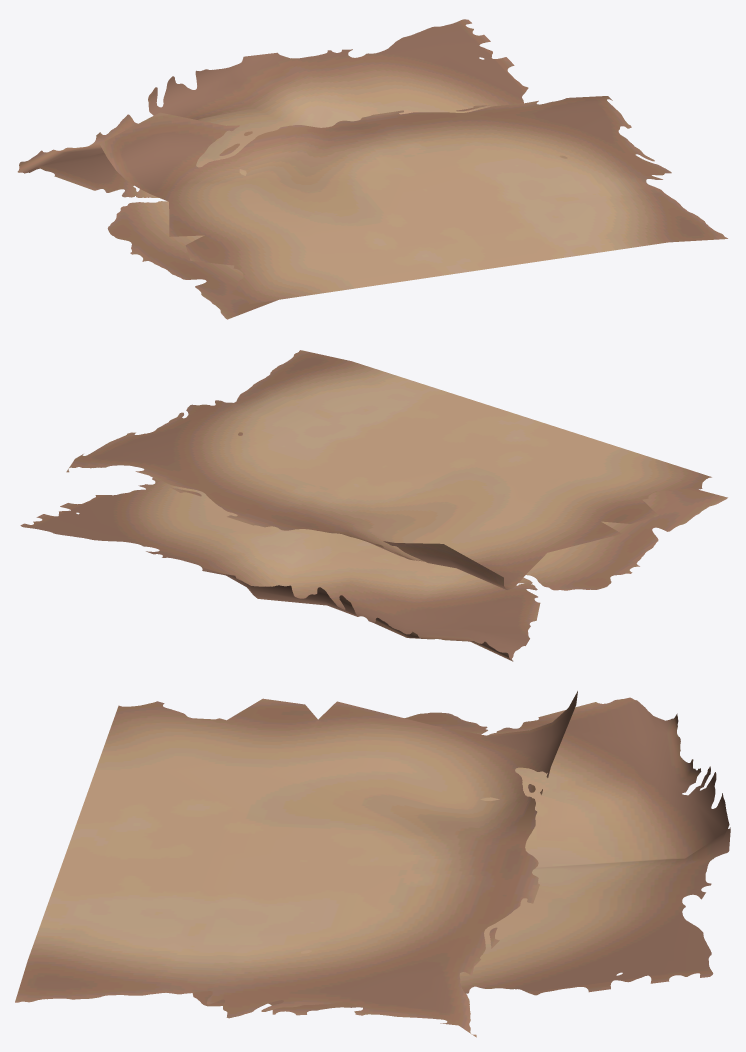
File: SM_Paper_Folded.gltf
3 renders of one model, top to bottom at view 1: azimuth 30°, elevation 25°; view 2: azimuth 150°, elevation 25°; view 3: azimuth 270°, elevation 25°, orthographic. The views are drawn at different scales.
Parts seen in each view (by area): view 1: SM_Paper_Folded; view 2: SM_Paper_Folded; view 3: SM_Paper_Folded.
Part boxes in pixels (<box>): SM_Paper_Folded: <box>17,19,727,319</box>; SM_Paper_Folded: <box>20,350,727,661</box>; SM_Paper_Folded: <box>15,691,730,1037</box>.
Bounding box in the file's own units: 0.3331 × 0.0384 × 0.3081.
1 material, 1 textured.
